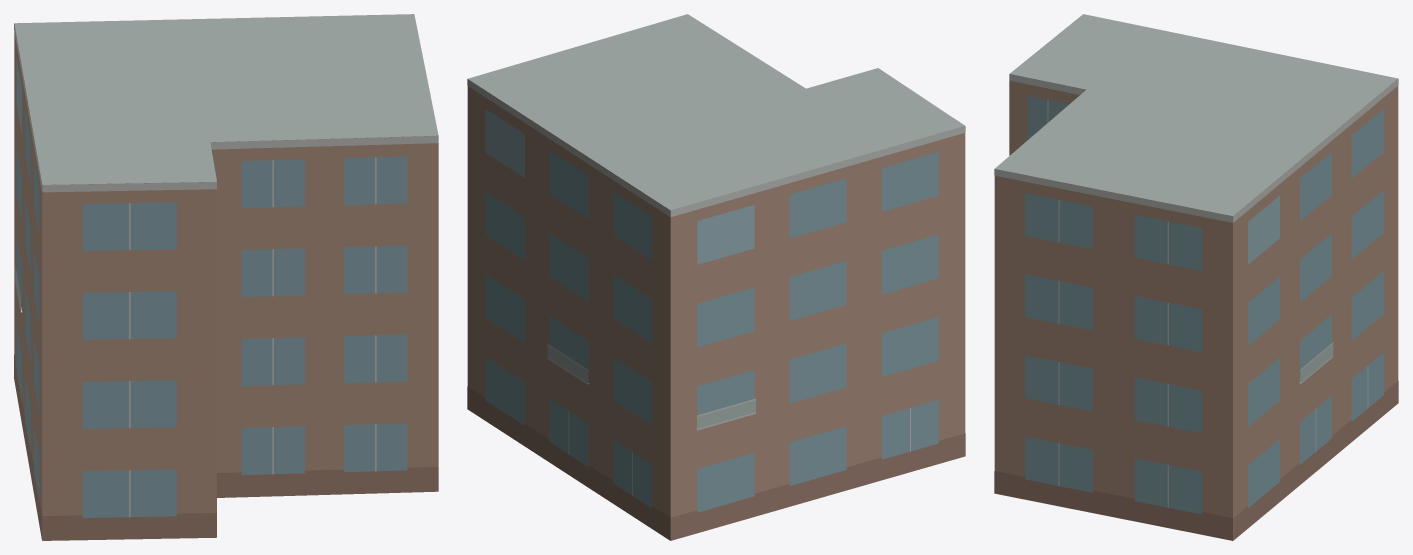
Rendered from survey-upis-32532810.glb.
3 views of the same model, side by side, from view 1: azimuth 30°, elevation 25°; view 2: azimuth 150°, elevation 25°; view 3: azimuth 270°, elevation 25° (orthographic). The views are drawn at different scales.
Parts seen in each view (by area): view 1: survey-upis-32532810.tmp; view 2: survey-upis-32532810.tmp; view 3: survey-upis-32532810.tmp.
Part boxes in pixels (x1,y1,x2,y2): survey-upis-32532810.tmp: (14, 14, 438, 540); survey-upis-32532810.tmp: (467, 14, 965, 540); survey-upis-32532810.tmp: (994, 14, 1398, 540).
Bounding box in the file's own units: 15.64 × 11.7 × 13.2.
